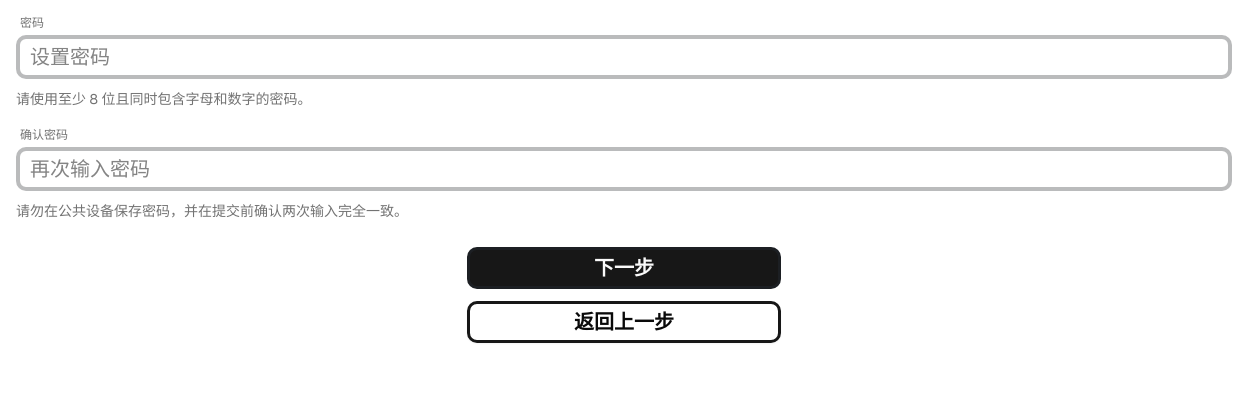
Test case: RegisterStep3 › blocks weak passwords and explains the password requirements before submit
Expected: the text "请使用至少 8 位且同时包含字母和数字的密码。" is shown, [16,90,312,108]
Type "short" into the password field labelled "密码".
click(624, 57); type("short")  # box [16,35,1232,79]
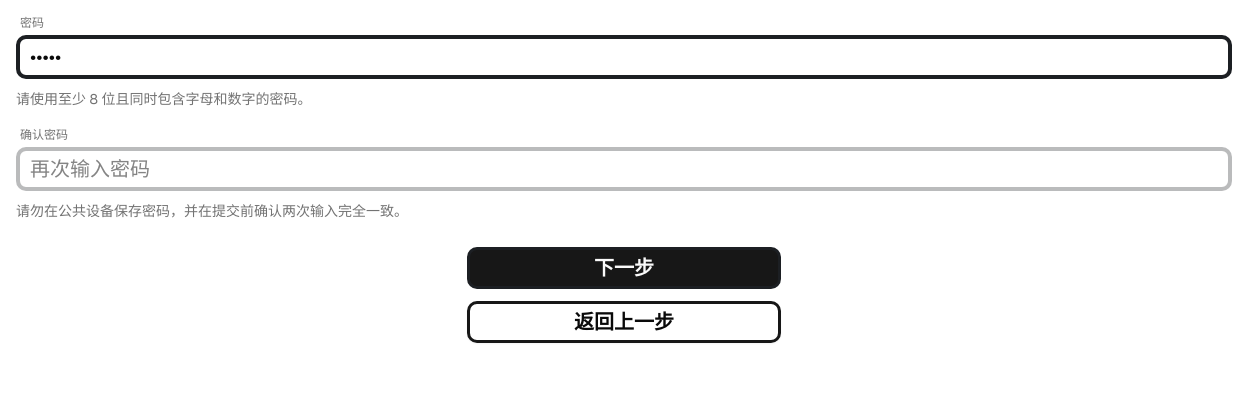
Type "short" into the password field labelled "确认密码".
click(624, 169); type("short")  # box [16,147,1232,191]
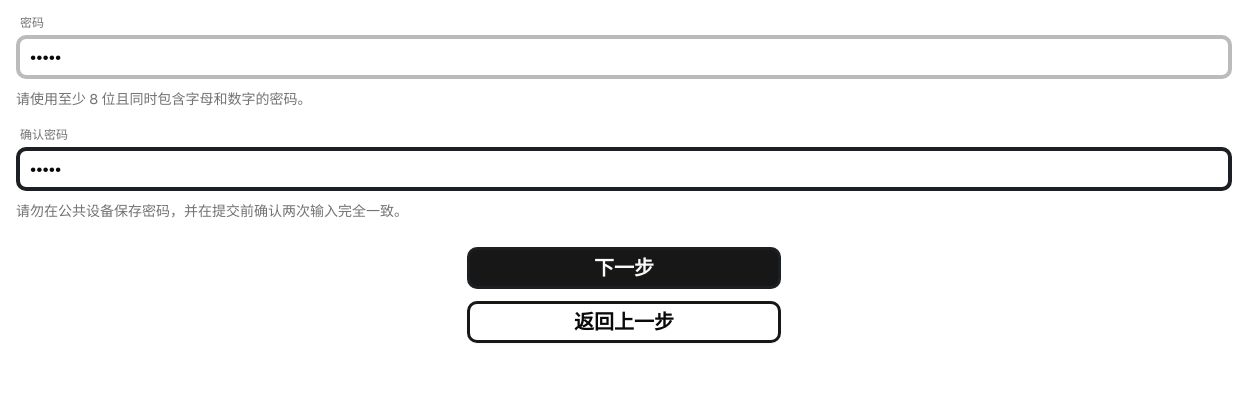
Click the button "下一步".
click(624, 268)  # box [467,247,781,289]
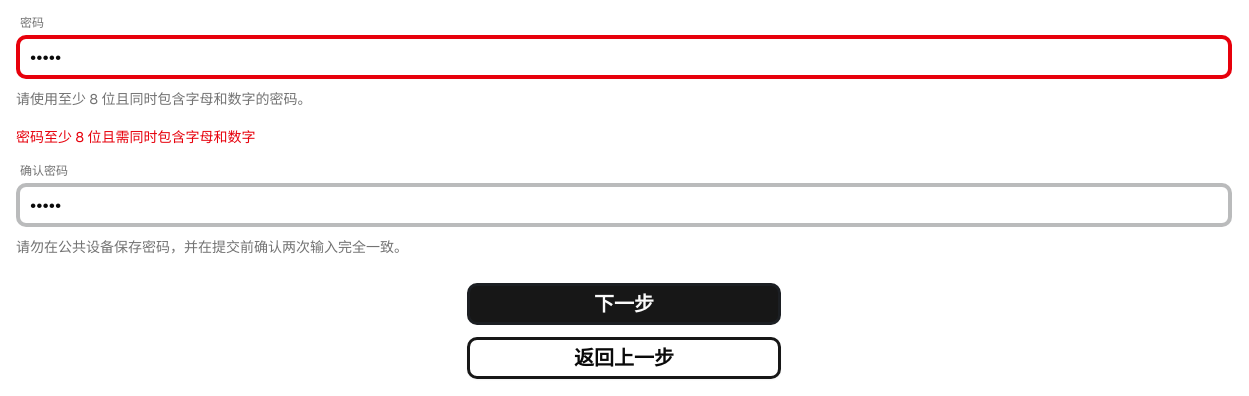
Expected: the text "密码至少 8 位且需同时包含字母和数字" is shown, [16,128,256,146]
